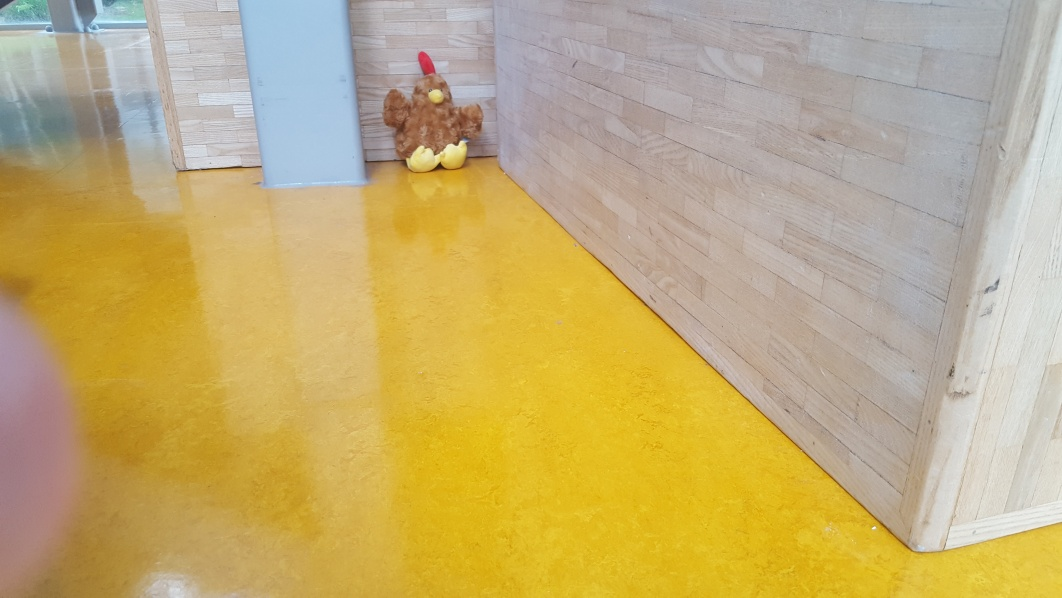chicken: (381, 50, 485, 178)
